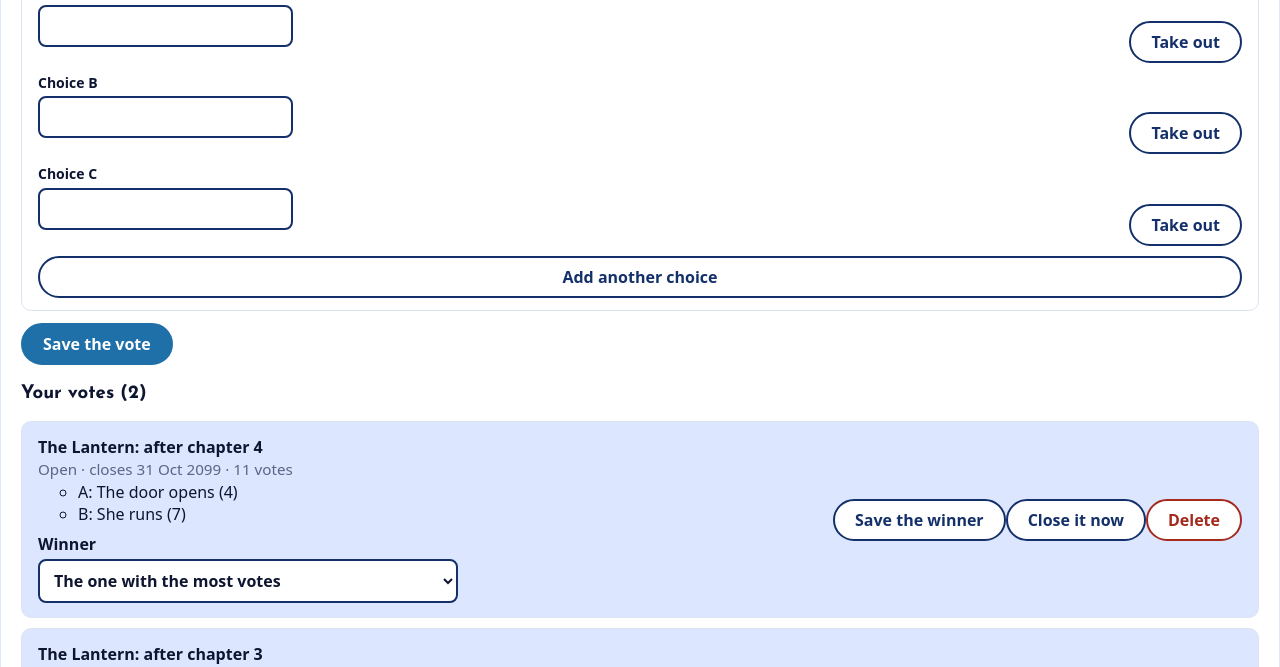
the form › checks the vote first, in plain words, and saves nothing while it is wrong
(page scrolled)
Expected: the heading "Your votes (2)" is shown, x1=21 y1=384 x2=146 y2=403
Click the button "Save the vote".
click(97, 344)  # box x1=21 y1=323 x2=173 y2=365
(page scrolled)
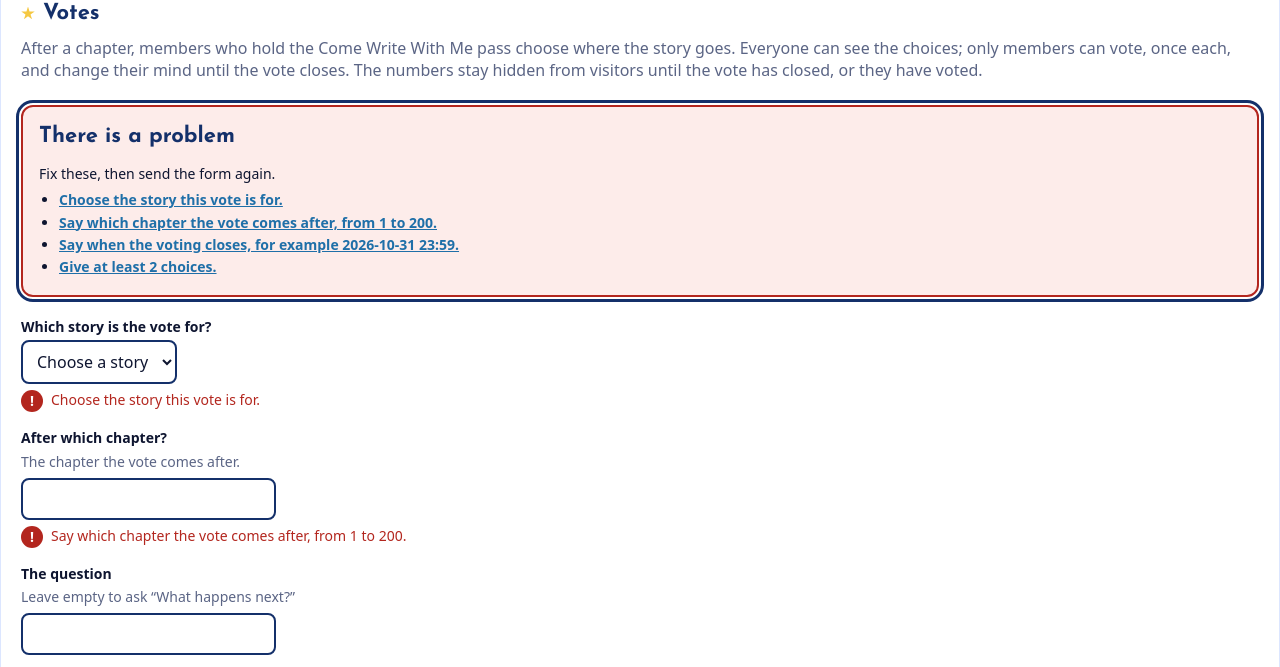
Now the link "Choose the story this vote is for." is shown, box x1=59 y1=190 x2=283 y2=209
Now the link "Give at least 2 choices." is shown, box x1=59 y1=257 x2=216 y2=276
Now the link "Say when the voting closes, for example 2026-10-31 23:59." is shown, box x1=59 y1=235 x2=459 y2=254
